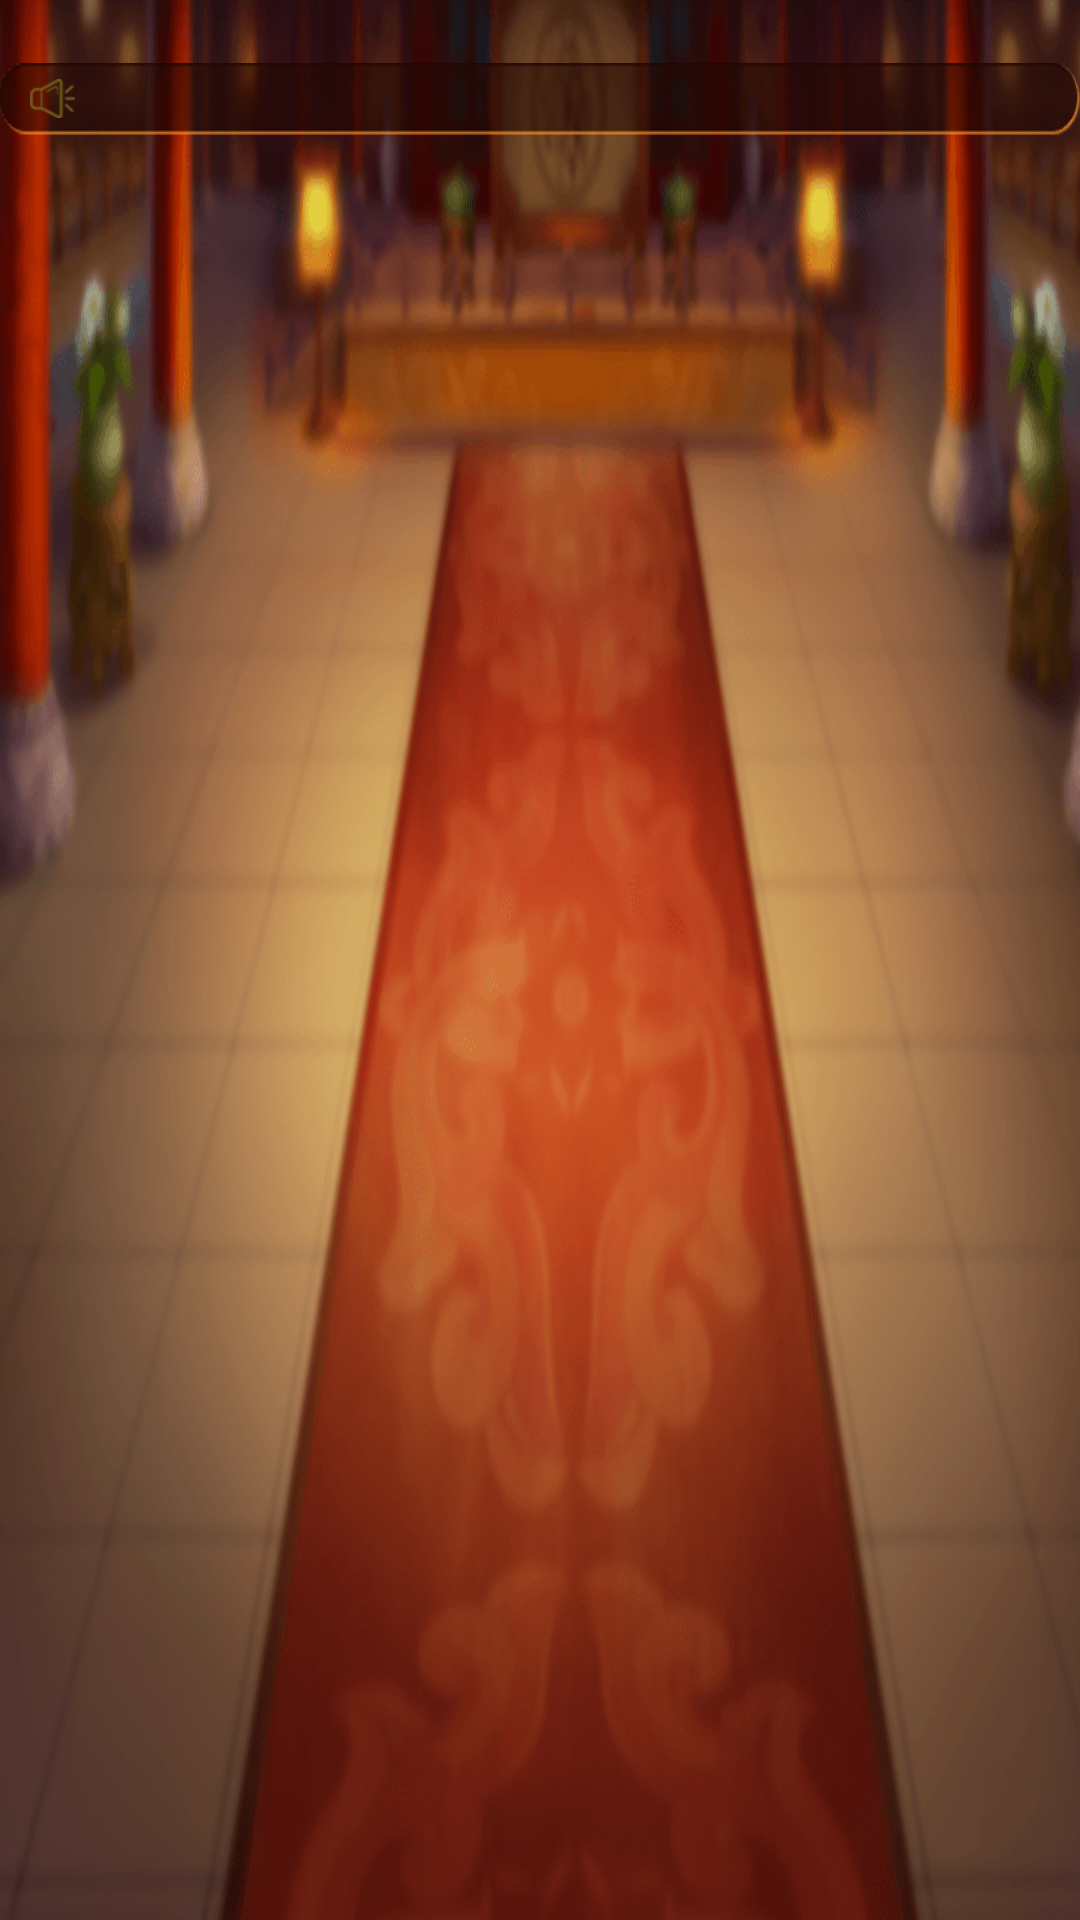

Where to tap for icons on this 1080 x 1920 app screen, as (x,y):
noitify: (52,98)
